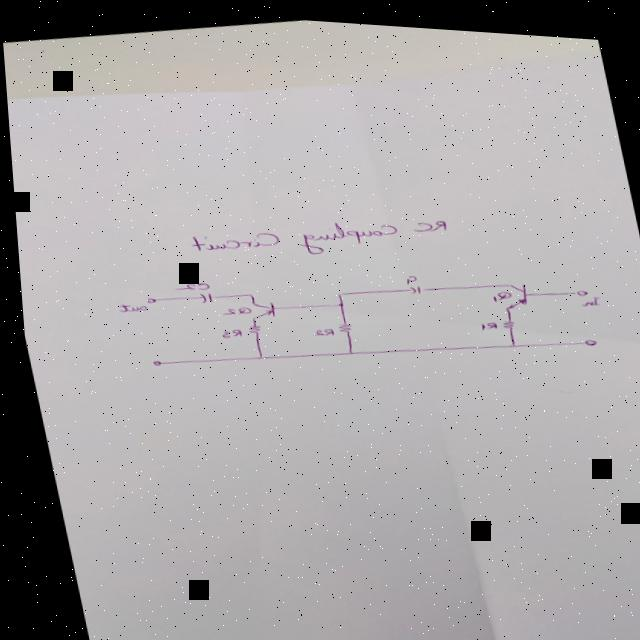capacitor: (191, 287, 210, 302), (401, 277, 421, 289)
junction: (503, 334, 513, 340), (251, 350, 259, 356), (332, 297, 340, 302), (332, 286, 340, 291), (343, 344, 349, 349), (243, 288, 249, 293)
resistor: (330, 315, 349, 330), (240, 319, 258, 332), (496, 311, 512, 323)
terminal: (576, 329, 593, 338), (569, 280, 585, 288), (144, 355, 158, 364), (140, 292, 153, 301)
text: (181, 192, 451, 273), (167, 276, 207, 291), (214, 300, 248, 314), (112, 298, 143, 312), (485, 282, 509, 296), (573, 286, 597, 299), (304, 321, 330, 333), (214, 323, 238, 335), (474, 313, 493, 324), (399, 268, 414, 279)
transistor: (492, 272, 527, 304), (241, 295, 273, 318)
